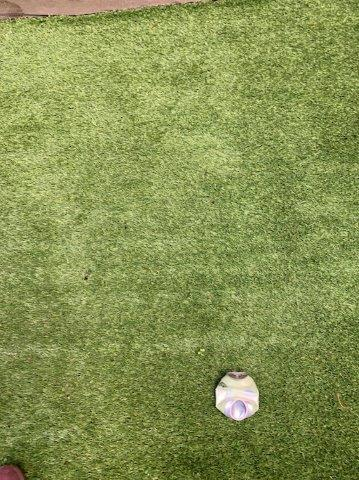kaleng: (215, 371, 259, 420)
